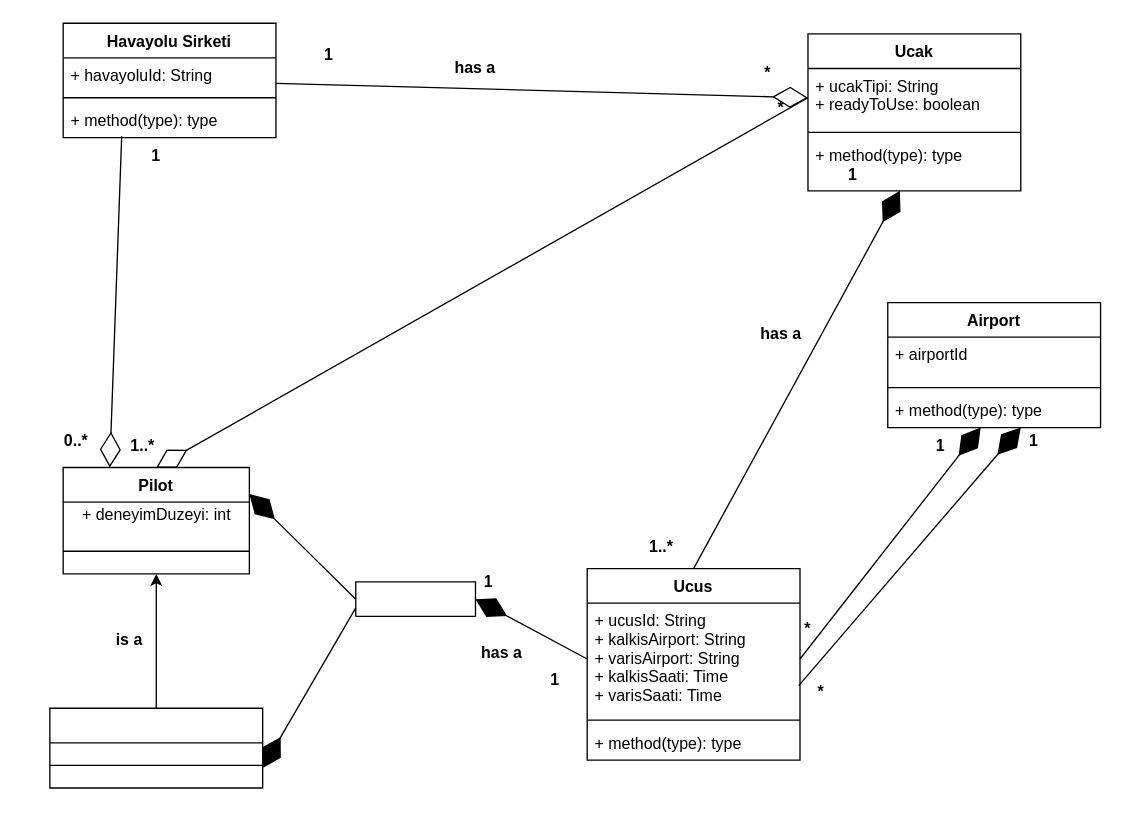
This 1124x826 diagram has some shape labels left out. The centre of each missing label's shape, as x and y in pixels:
"UcusEkibi" belongs at [414,598].
"yardimciPilot" belongs at [156,747].
